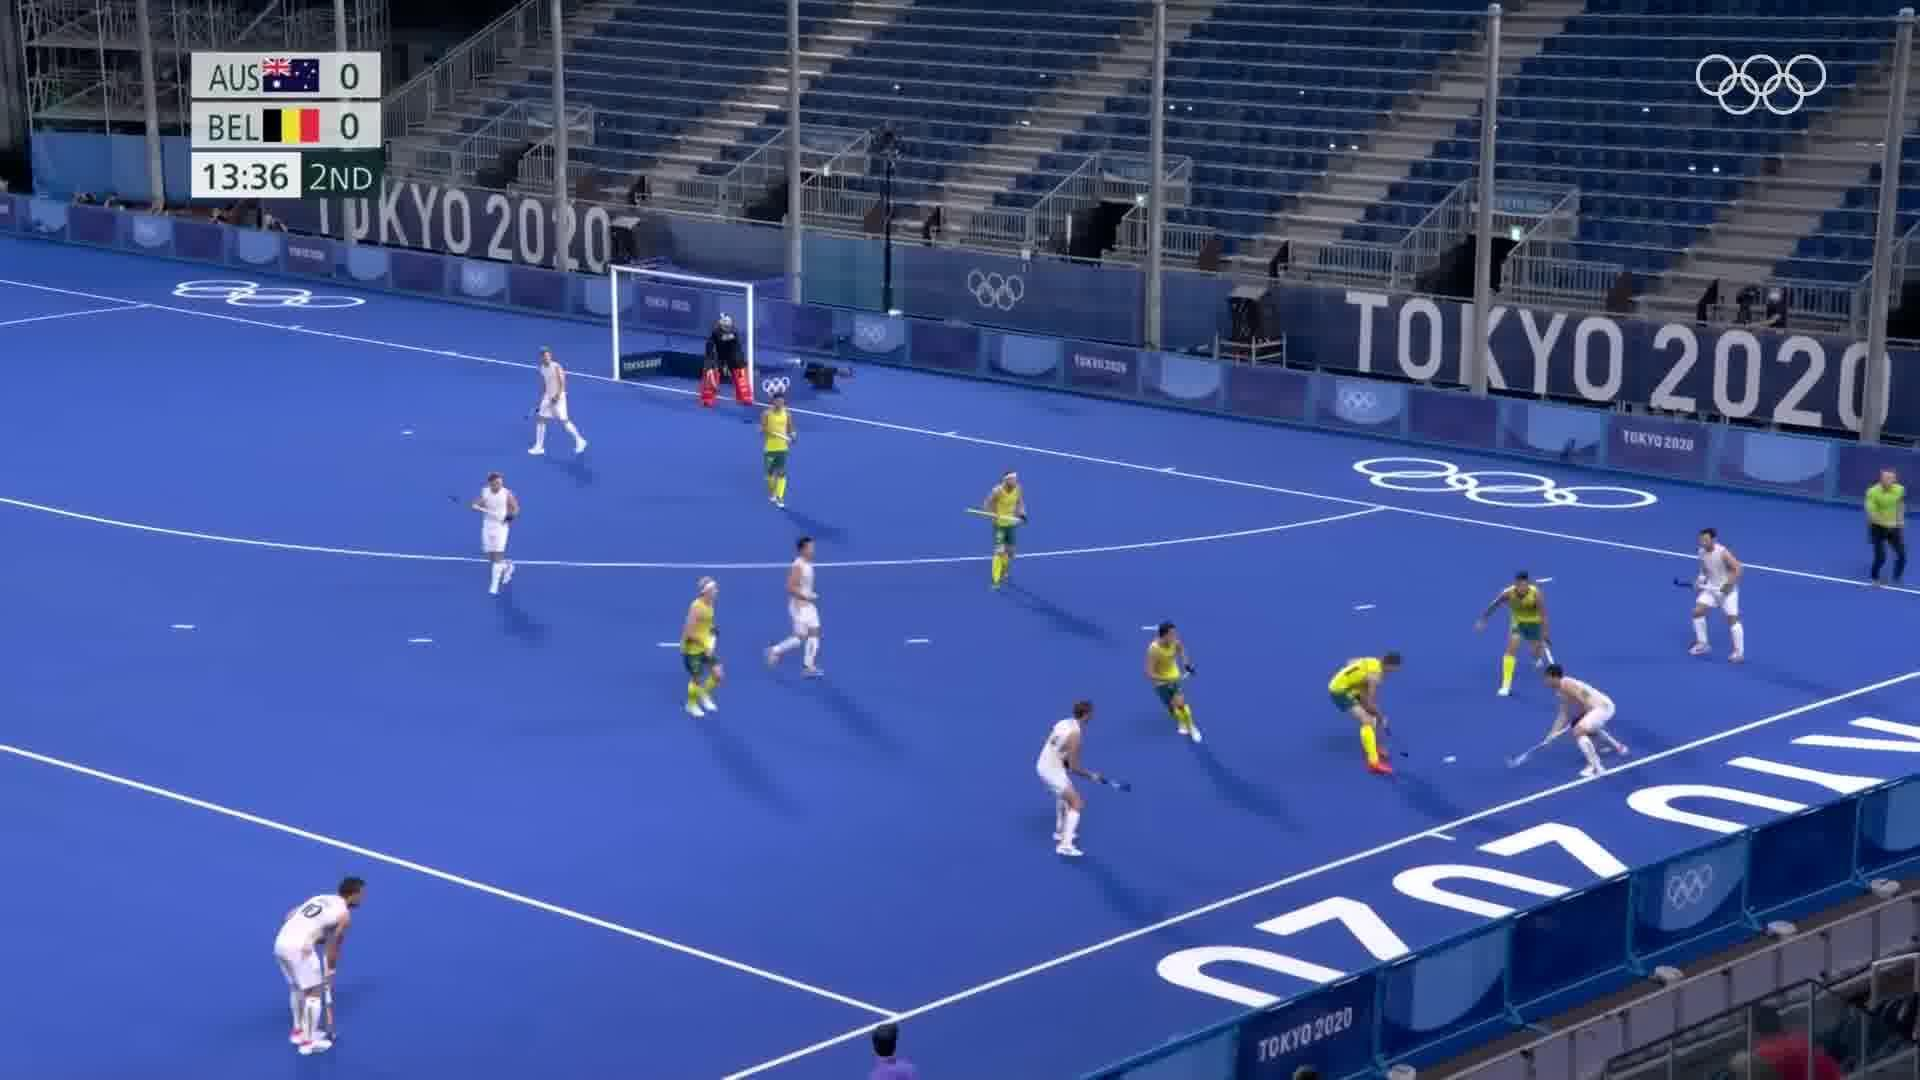ball: (1436, 748, 1465, 767)
